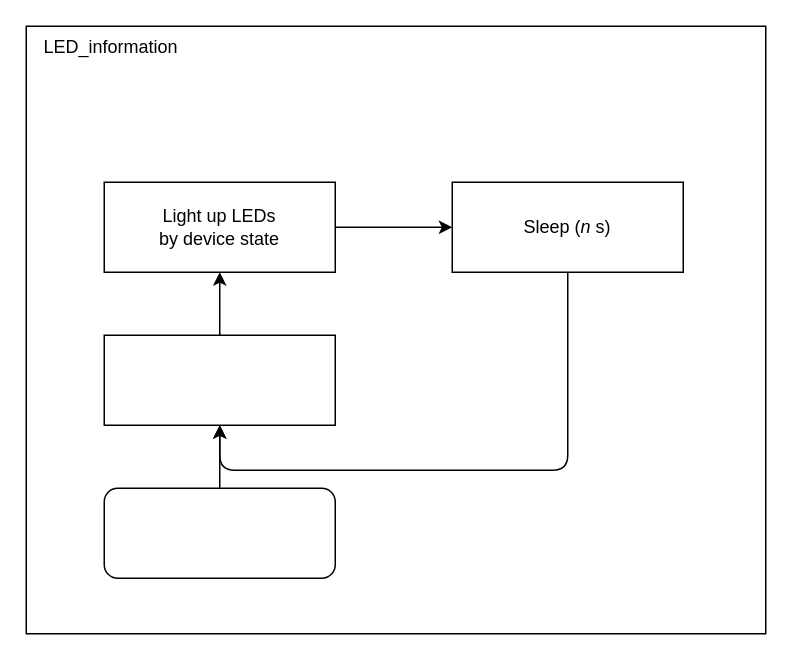
Image size: 792x660. Some labels were removed from this diagram. The centre of each missing label's shape, as x and y in pixels:
"Config GPIO & Light Default Status" goes at [219,532].
"Read state from buffer" goes at [219,379].
